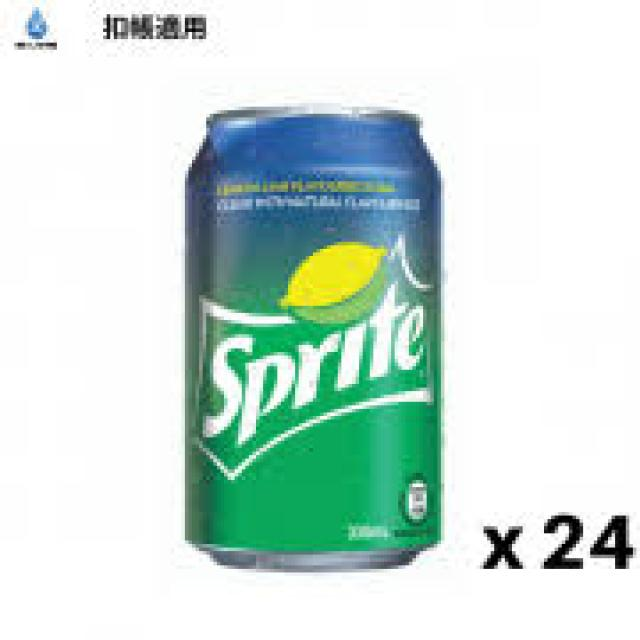aluminum_can: (185, 114, 444, 571)
